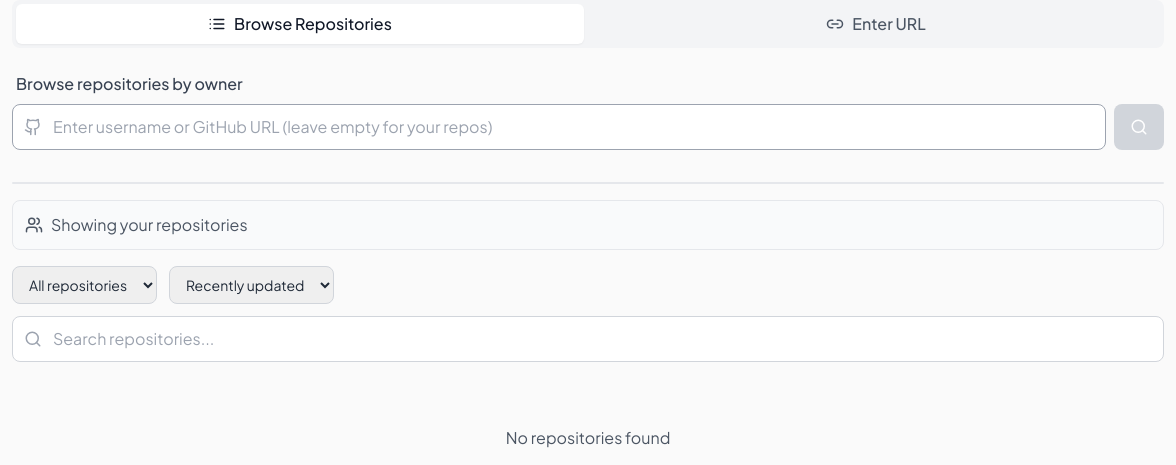
Scenario: GitHubRepoForm › URL mode › should show validation error for invalid URL
Click the button "Enter URL". click: (876, 24)
box: [592,4,1160,44]
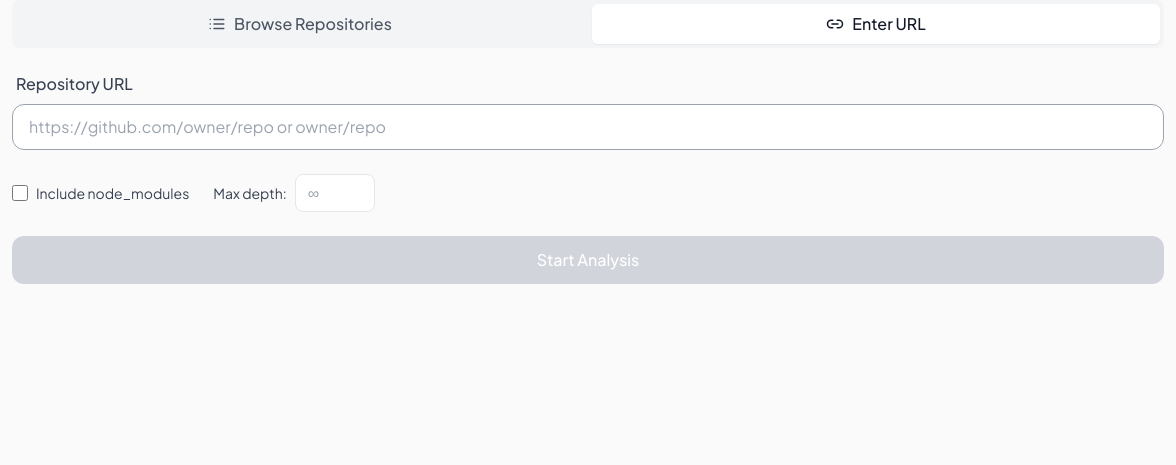
Type "invalid-url" into the field labelled "Repository URL". click: (588, 127)
box: [12,104,1164,150]
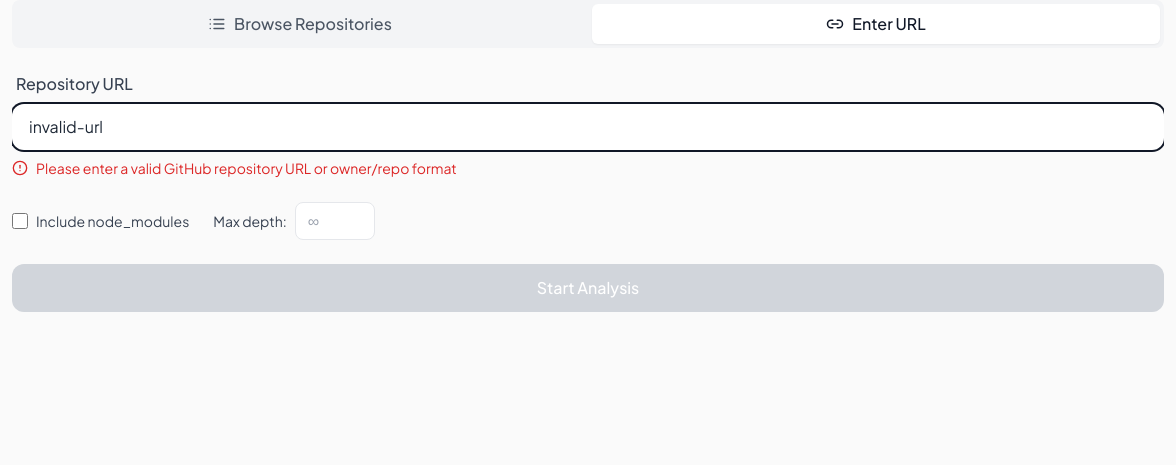
Expected: the text "Please enter a valid GitHub repository URL" is shown, [36,159,457,177]
